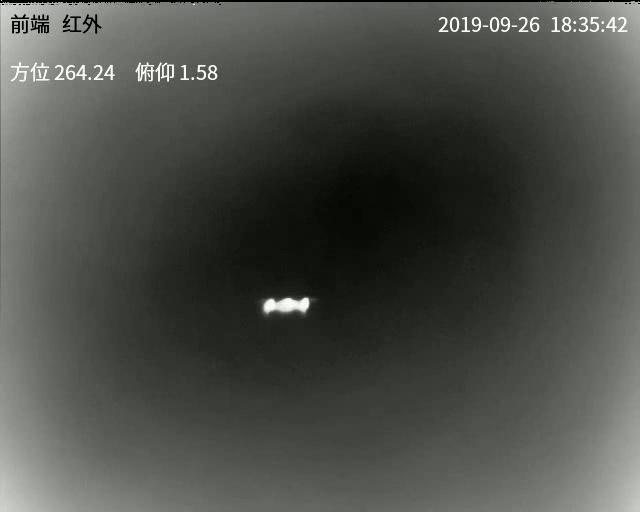DRONE: (263, 296, 311, 314)
